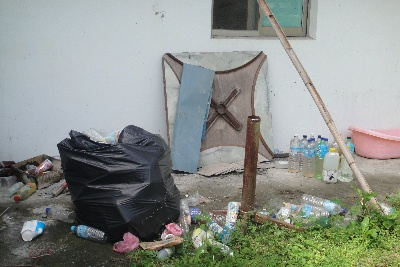bottle: (300, 194, 348, 218), (68, 224, 108, 245), (322, 146, 340, 185), (303, 138, 317, 178), (14, 181, 38, 201), (288, 133, 300, 172), (36, 158, 55, 175)
bowl: (347, 124, 400, 162)
plastic_bag: (57, 125, 182, 245)
